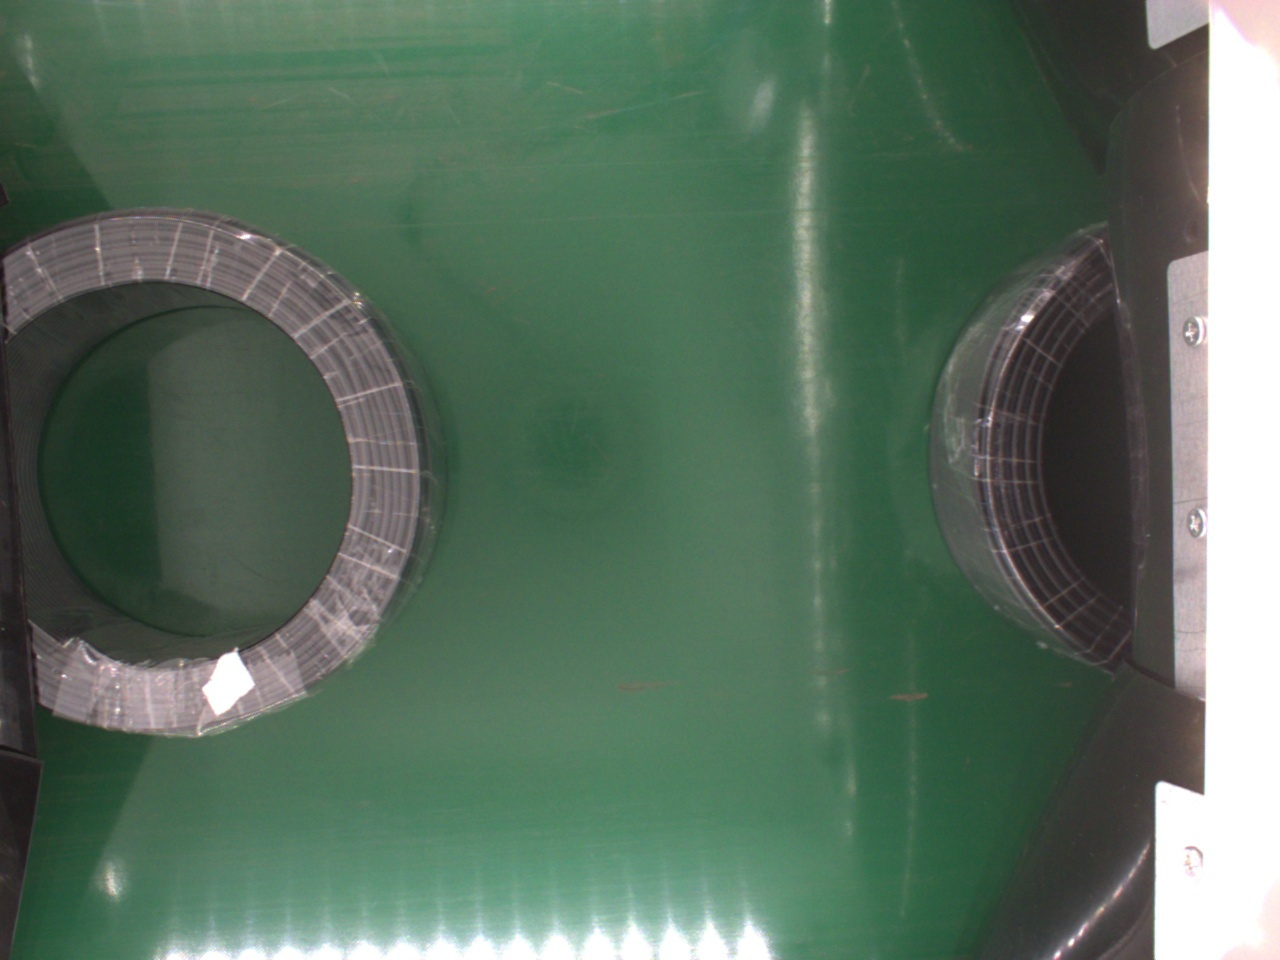black: (4, 210, 450, 745), (925, 223, 1140, 668)
